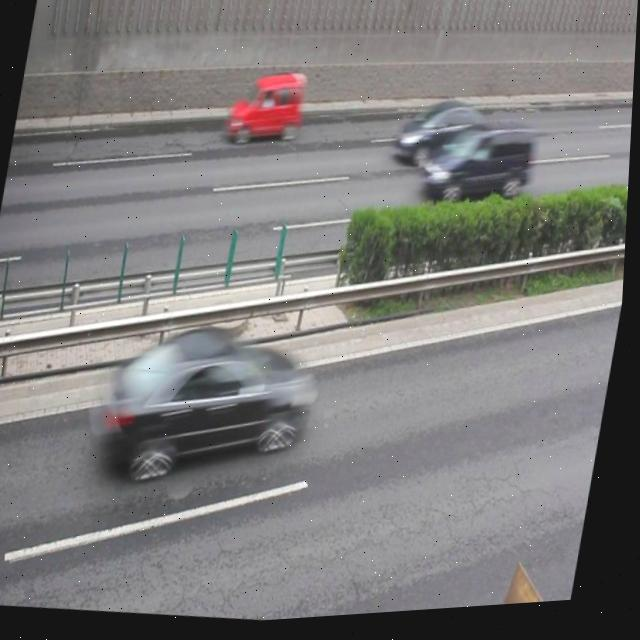car: (91, 311, 323, 503), (390, 98, 498, 182), (223, 68, 310, 154)
truck: (418, 119, 540, 220)
